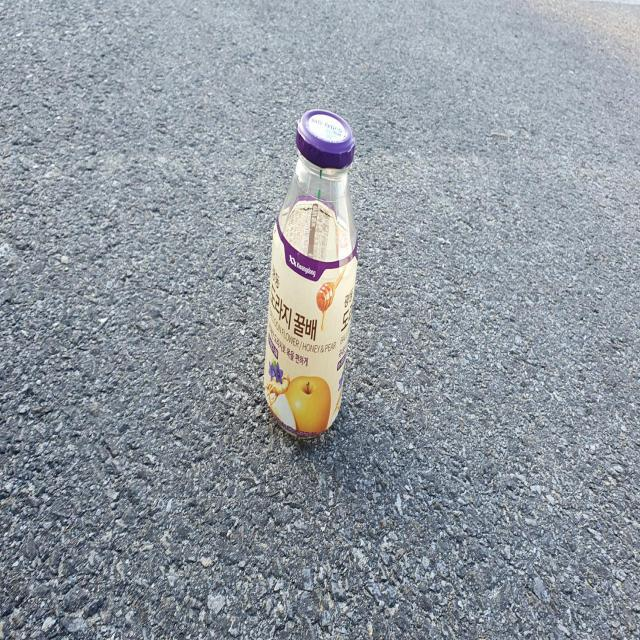glass: (261, 108, 359, 439)
